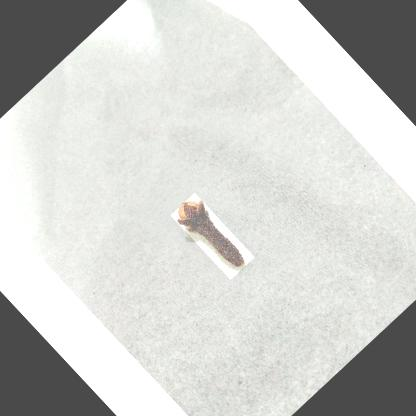baik: (178, 201, 245, 270)
